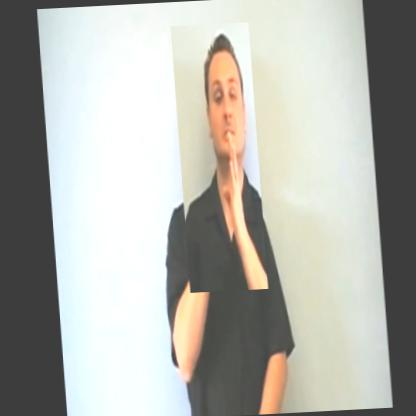Talk: (170, 22, 267, 292)
